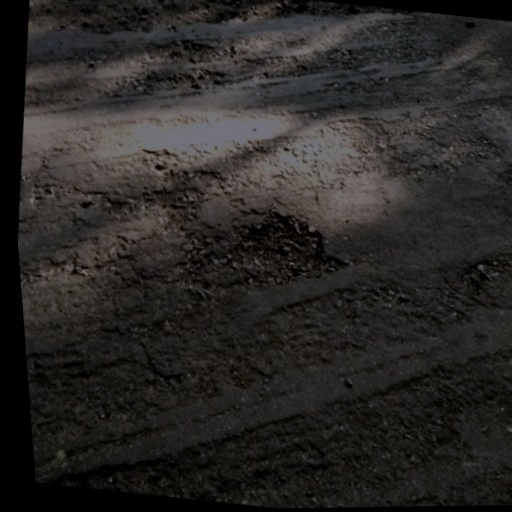pothole: (219, 203, 355, 296), (155, 61, 226, 98), (152, 34, 224, 67)
